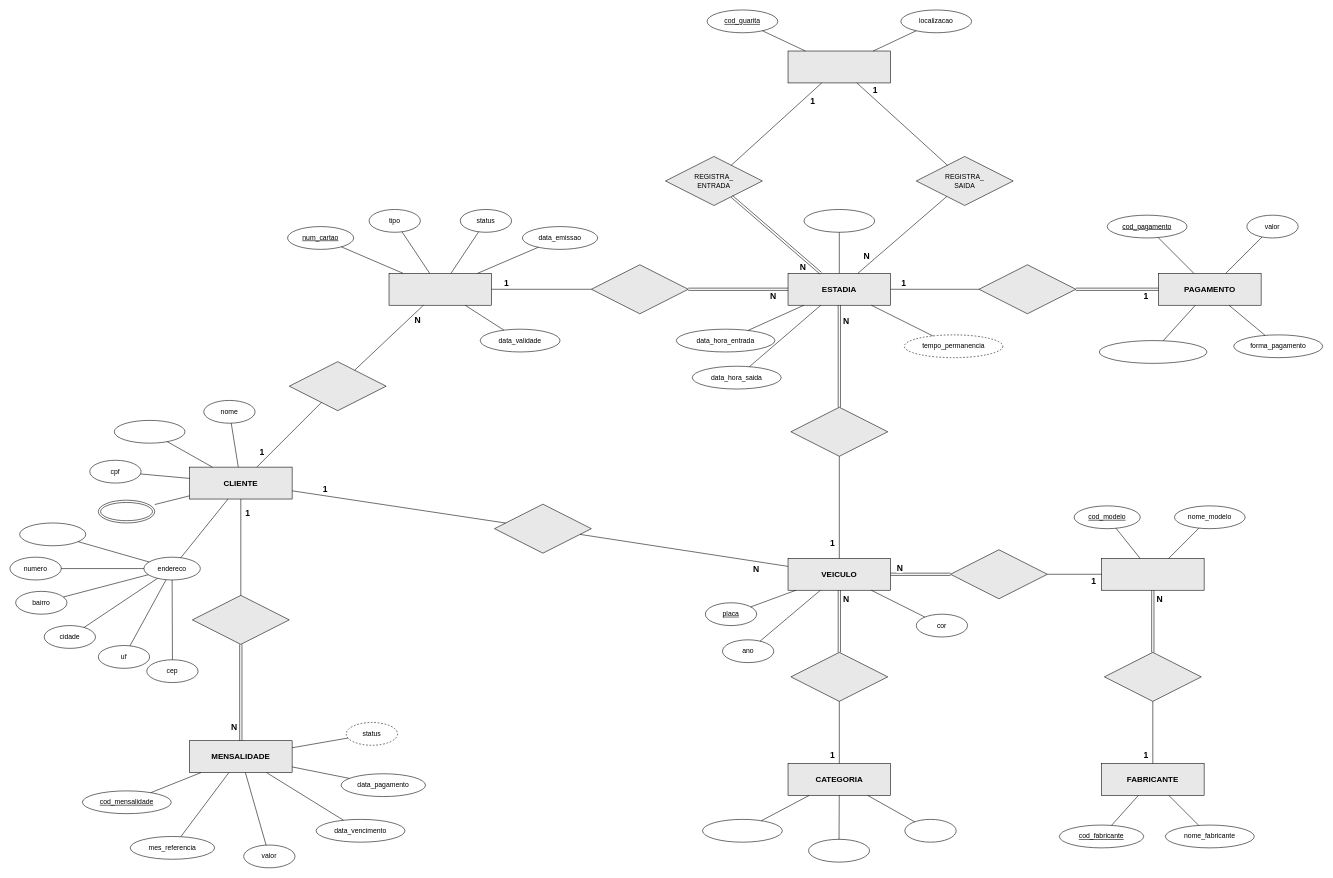
The diagram is 1333 pixels wide and 878 high, and some of its shapes have lost their labels. Each missing label, with the centre of its shape:
"CARTAO_ACESSO" goes at point (440, 289).
"CLASSIFICA" goes at point (839, 676).
"cod_categoria" goes at point (742, 830).
"cod_cliente" goes at point (149, 431).
"cod_estadia" goes at point (839, 220).
"data_hora_pagamento" goes at point (1153, 351).
"descricao" goes at point (839, 850).
"FABRICA" goes at point (1152, 676).
"GERA" goes at point (1027, 289).
"GUARITA" goes at point (839, 66).
"INSTANCIA" goes at point (998, 574).
"isenta" goes at point (930, 830).
"logradouro" goes at point (52, 534).
"MODELO" goes at point (1152, 574).
"PAGA" goes at point (240, 619).
"POSSUI" goes at point (542, 528).
"REALIZA" goes at point (839, 431).
"RECEBE" goes at point (337, 386).
"telefone" goes at point (126, 511).
"UTILIZA" goes at point (639, 289).
